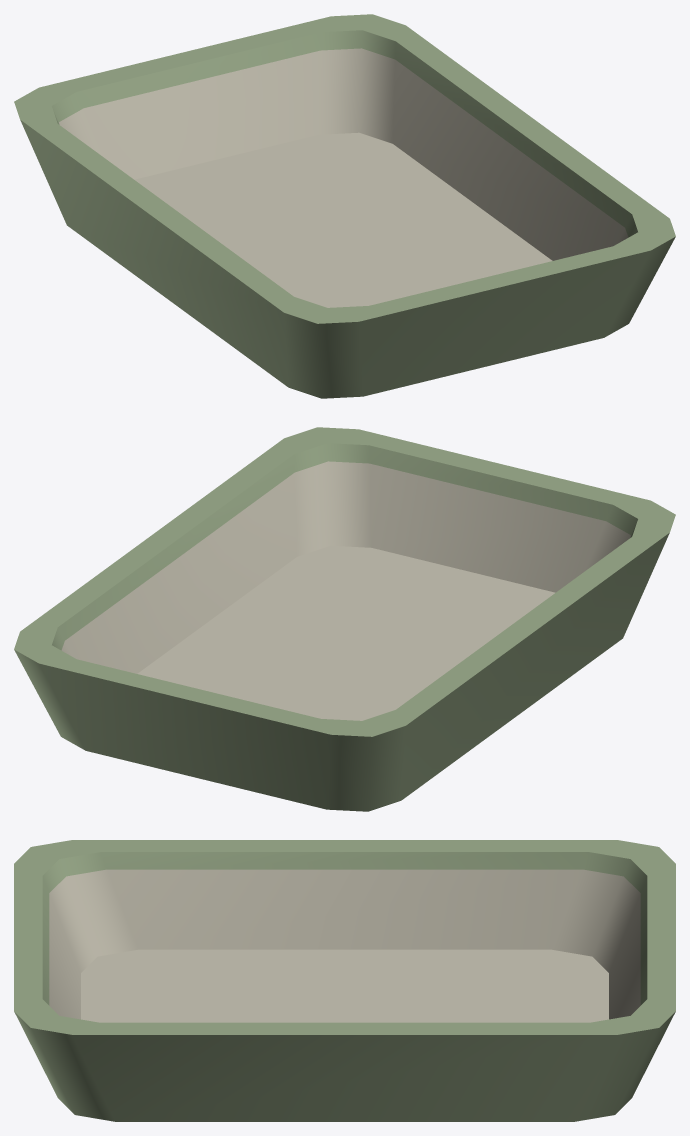
The model's file is CookingPlate_01.fbx.
3 views of the same model, one above another, from view 1: azimuth 30°, elevation 25°; view 2: azimuth 150°, elevation 25°; view 3: azimuth 270°, elevation 25° (orthographic). The views are drawn at different scales.
Parts seen in each view (by area): view 1: CookingPlate_01; view 2: CookingPlate_01; view 3: CookingPlate_01.
Part boxes in pixels (x1,y1,x2,y2): CookingPlate_01: [14, 14, 675, 398]; CookingPlate_01: [14, 427, 675, 811]; CookingPlate_01: [14, 840, 675, 1121].
Size of the model in its own units: 0.3226 by 0.0772 by 0.4633.
